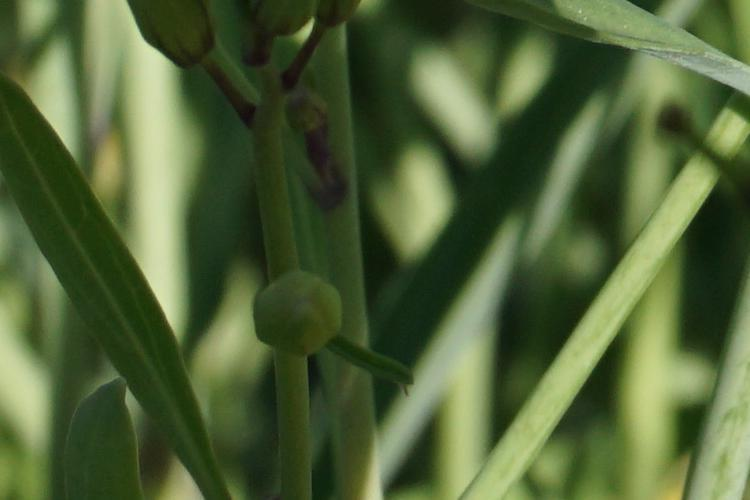bud: (242, 267, 351, 347), (246, 6, 307, 53), (319, 5, 370, 32)
